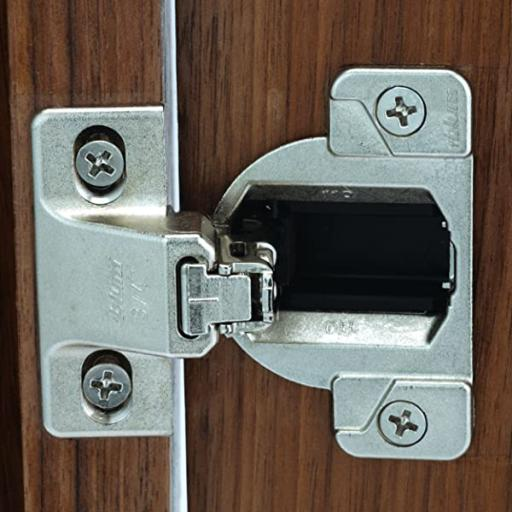Phillips: (79, 354, 136, 415), (72, 135, 128, 192), (374, 84, 428, 138), (374, 398, 429, 448)
